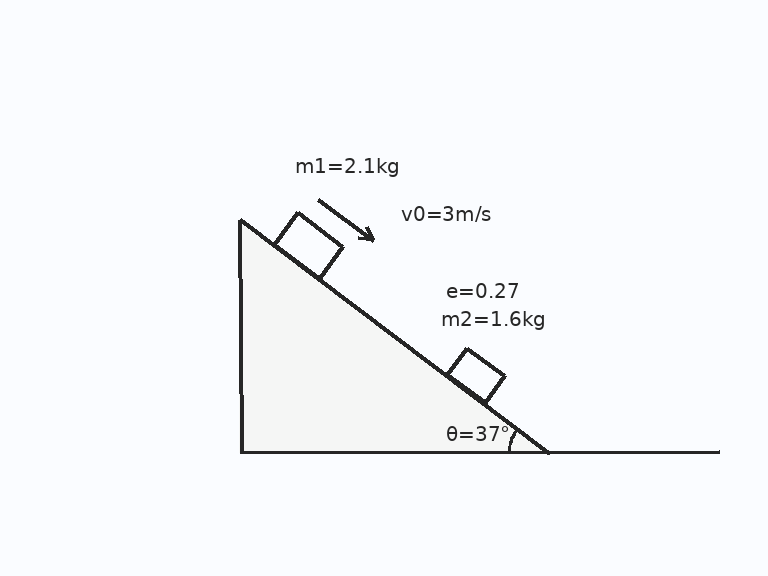block: (272, 210, 345, 280), (445, 346, 506, 405)
ramp: (238, 217, 551, 454)
